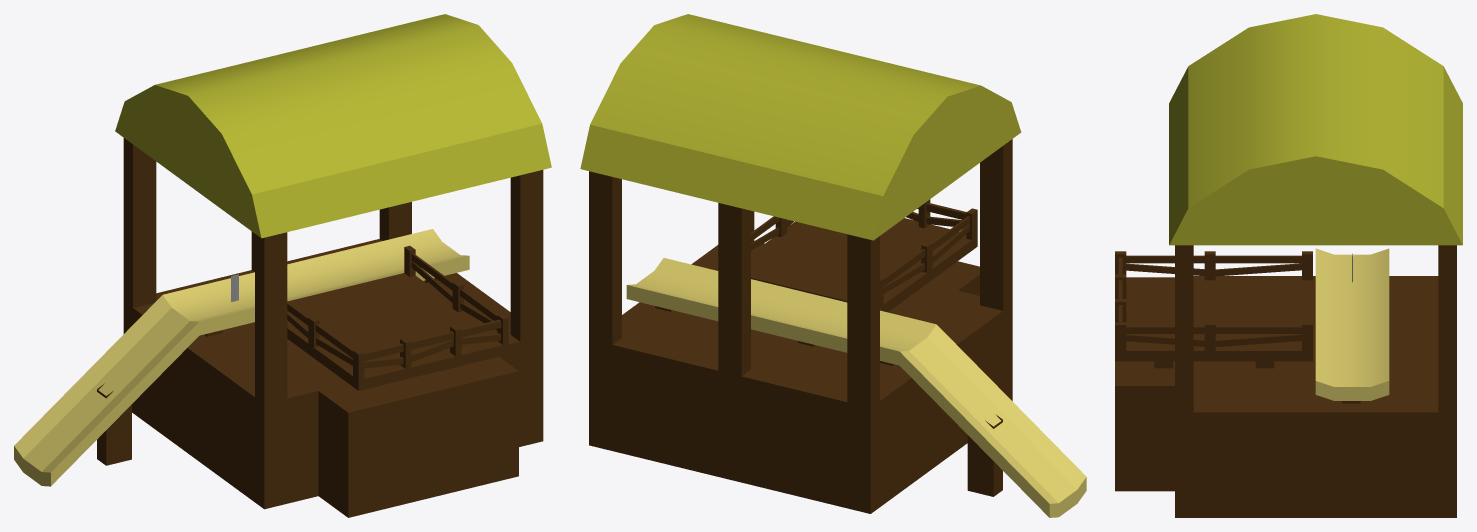
The model's file is LumberMill.FBX.
The picture shows the model from 3 angles, left to right: view 1: azimuth 30°, elevation 25°; view 2: azimuth 150°, elevation 25°; view 3: azimuth 270°, elevation 25°; orthographic projection.
Visible parts, largest first — view 1: LumberMill; view 2: LumberMill; view 3: LumberMill.
Part boxes in pixels (<box>): LumberMill: <box>14,14,551,517</box>; LumberMill: <box>580,14,1086,517</box>; LumberMill: <box>1115,14,1462,517</box>.
Bounding box in the file's own units: 42.59 × 34.55 × 29.87.
